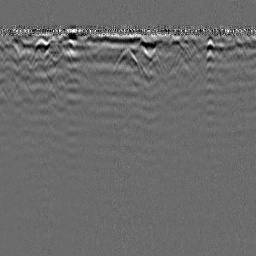cavity: (112, 46, 142, 74)
